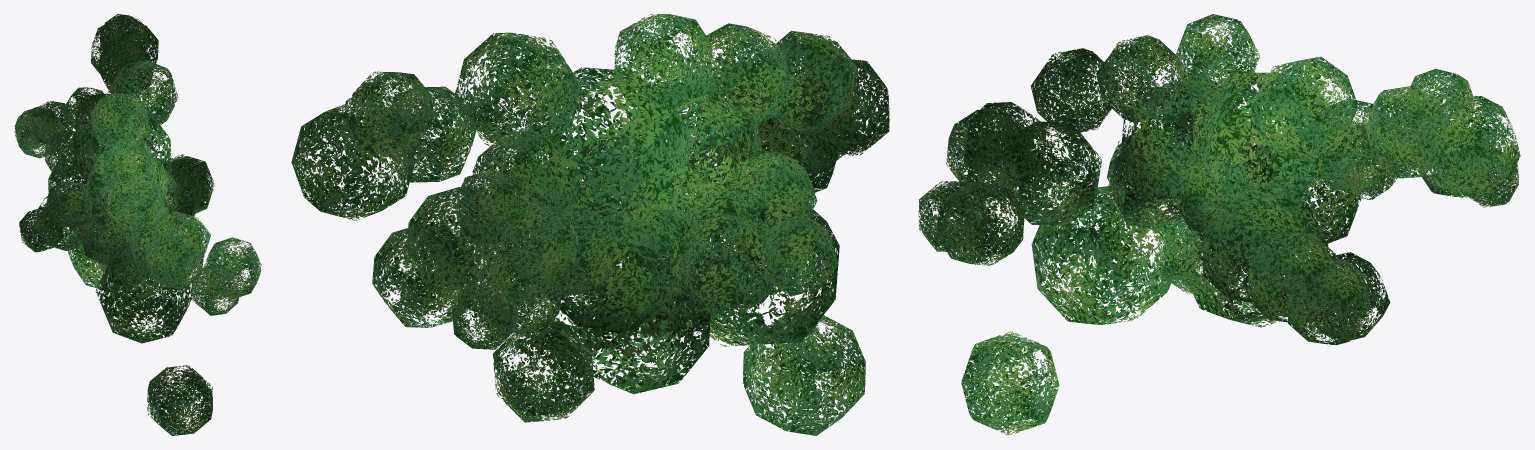
Rendered from Bladeren.fbx.
The picture shows the model from 3 angles, left to right: view 1: azimuth 30°, elevation 25°; view 2: azimuth 150°, elevation 25°; view 3: azimuth 270°, elevation 25°; orthographic projection. The views are drawn at different scales.
Visible parts, largest first — view 1: Bladeren; view 2: Bladeren; view 3: Bladeren.
Part boxes in pixels (x1,y1,x2,y2): Bladeren: (14, 14, 262, 435); Bladeren: (291, 14, 889, 435); Bladeren: (918, 14, 1520, 434).
Bounding box in the file's own units: 225 × 279 × 361.
